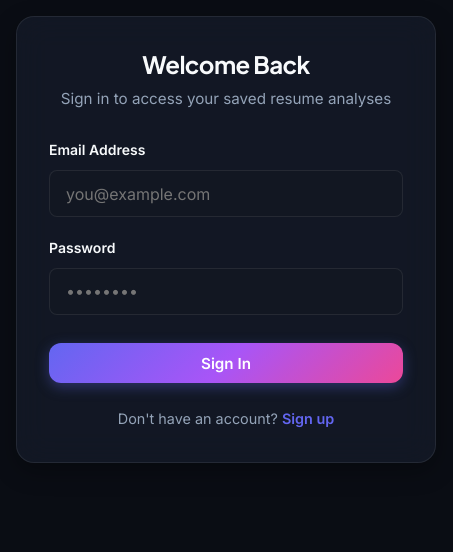
Scenario: Client Authentication Flow › Login Page › shows error banner when login credentials are invalid
The image size is (453, 552).
In the field labelled "Email Address": (226, 194) [49, 170, 403, 217], type "user@example.com"
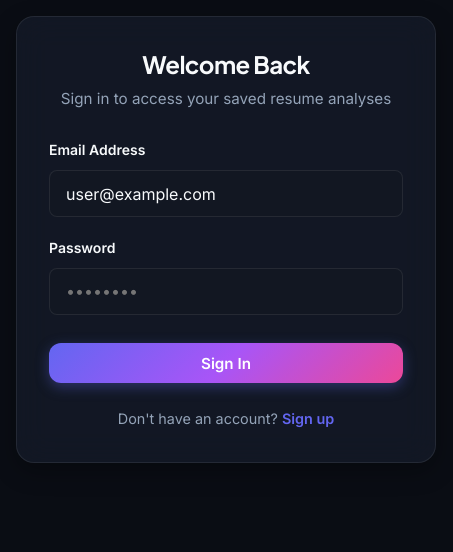
In the password field labelled "Password": (226, 292) [49, 268, 403, 315], type "WrongPassword"
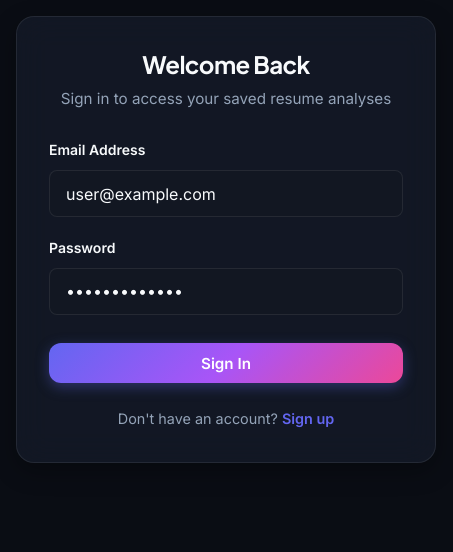
Click the button "Sign In": click(226, 363) [49, 343, 403, 383]
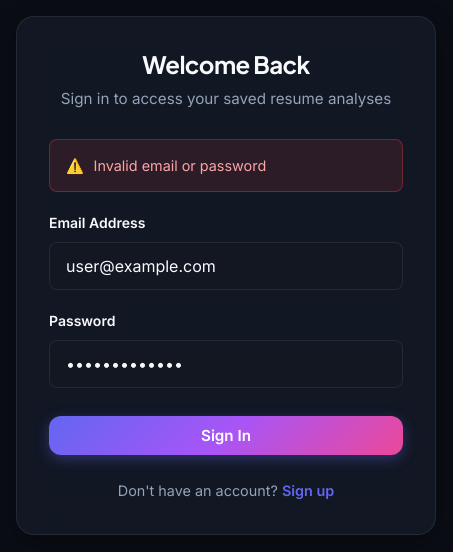
Check: the message shows "Invalid email or password", box [94, 157, 266, 174]
